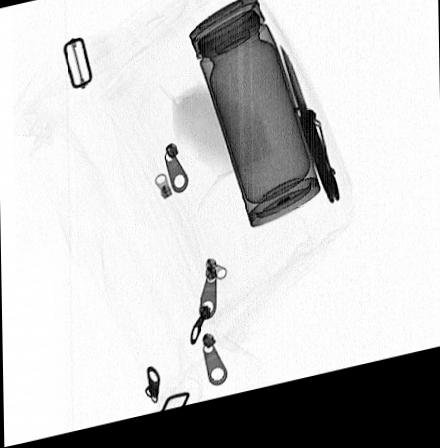Knife: (277, 55, 340, 221)
